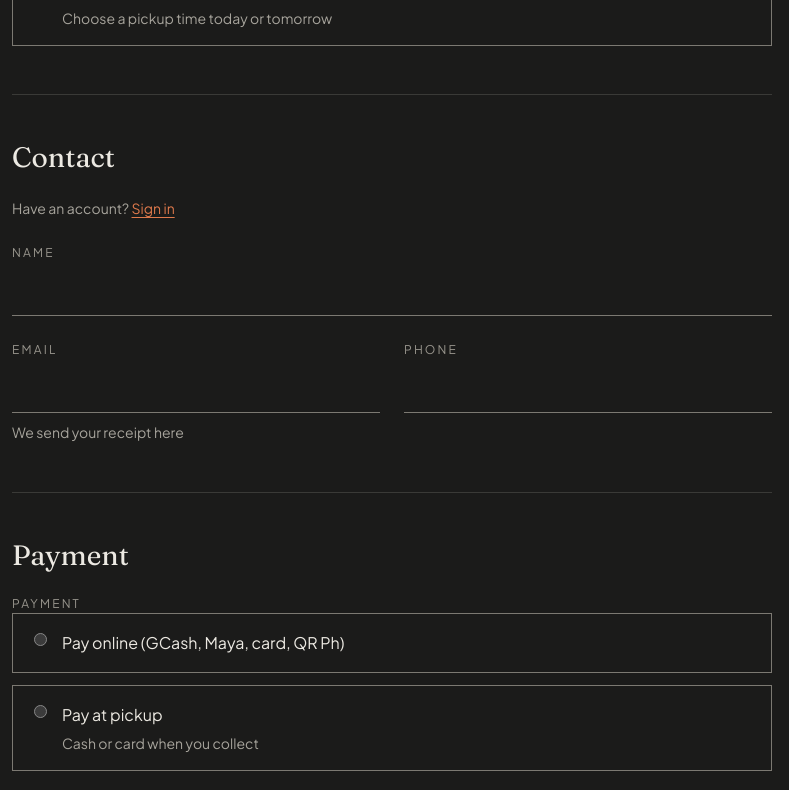
Test case: CheckoutPage › stays quiet while typing, checks a field on blur, and clears the message once fixed
The image size is (789, 790).
(page scrolled)
In the field labelled "Email": (196, 390) [12,367,380,413], type "alex@"
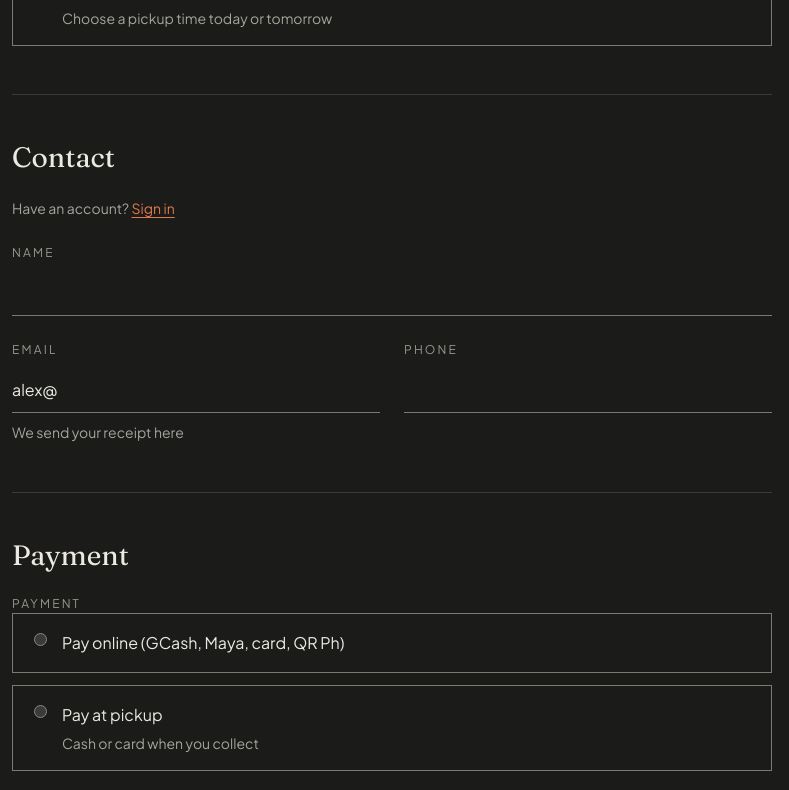
Check: the text "Enter a valid email address" is not shown
Leave the field labelled "Email", box [12,367,380,413]
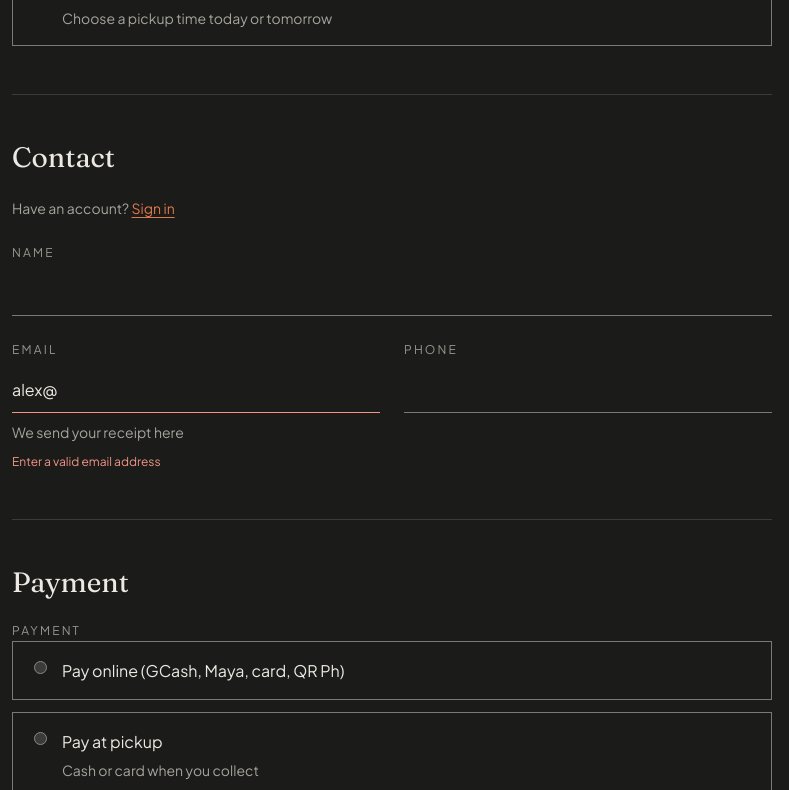
Check: the text "Enter a valid email address" is shown, box [12,454,161,469]
Replace the text in the field labelled "Email" with "alex@example.com": (196, 390) [12,367,380,413]
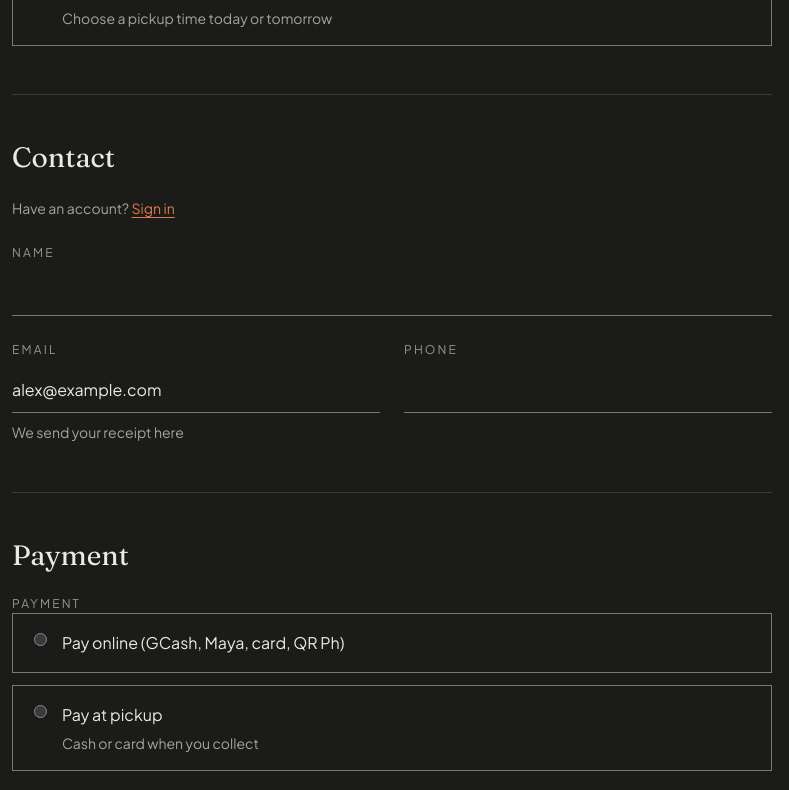
Check: the text "Enter a valid email address" is gone
